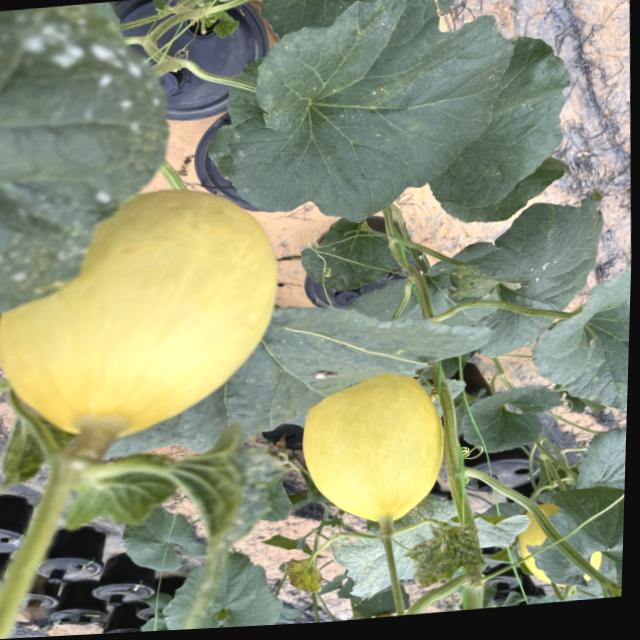CMV: (398, 521, 484, 590)
alternaria leaf blight: (268, 549, 343, 597)
downy mildew: (206, 0, 529, 235), (438, 194, 626, 363), (532, 270, 631, 420)
